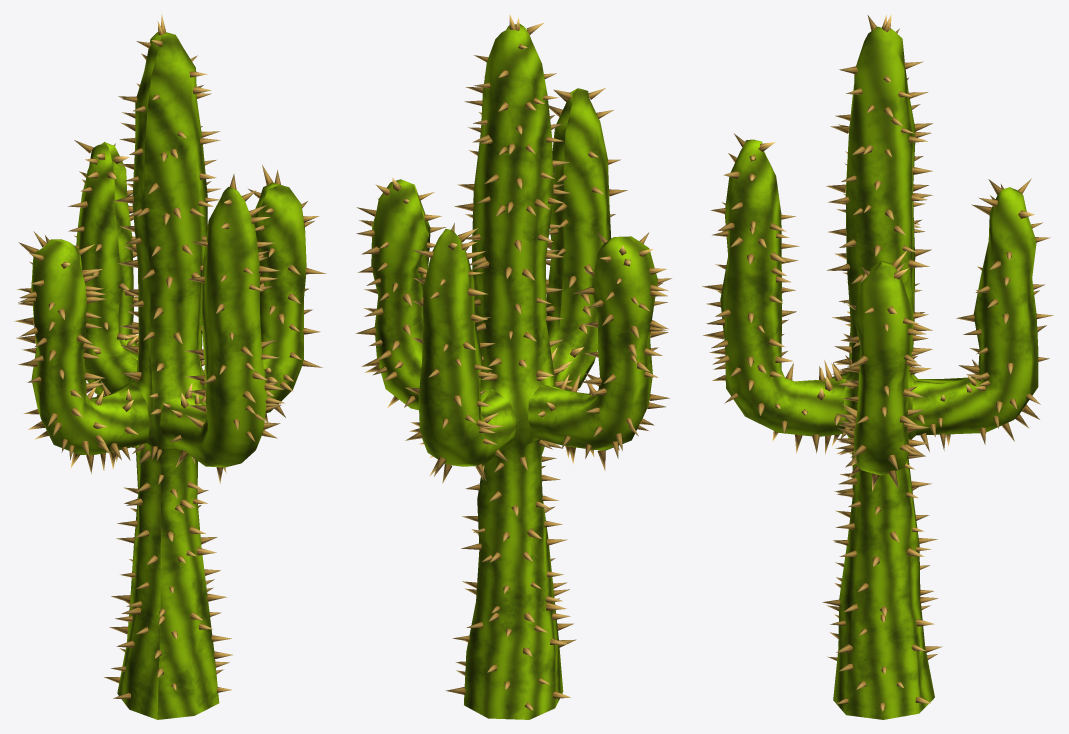
The model's file is Large Cactus.fbx.
3 views of the same model, side by side, from view 1: azimuth 30°, elevation 25°; view 2: azimuth 150°, elevation 25°; view 3: azimuth 270°, elevation 25° (orthographic).
Visible parts, largest first — view 1: Large Cactus; view 2: Large Cactus; view 3: Large Cactus.
Boxes of the visible parts, bbox=[...] form: Large Cactus: bbox=[14, 14, 326, 719]; Large Cactus: bbox=[355, 15, 671, 719]; Large Cactus: bbox=[702, 14, 1053, 719].
Size of the model in its own units: 4.09 by 4.12 by 8.8.
2 materials, 2 textured.
